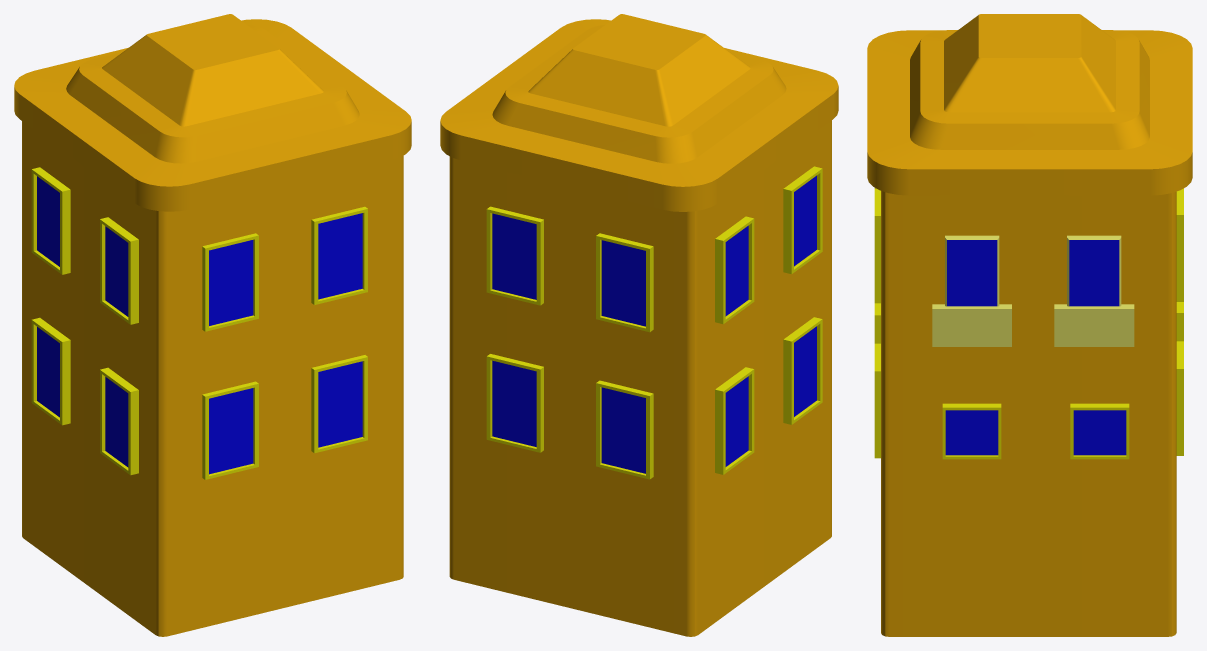
The picture shows the model from 3 angles, left to right: view 1: azimuth 30°, elevation 25°; view 2: azimuth 150°, elevation 25°; view 3: azimuth 270°, elevation 25°; orthographic projection. The views are drawn at different scales.
Visible parts, largest first — view 1: polySurface67, polySurface69, polySurface72, polySurface70, polySurface73, polySurface71, polySurface138, polySurface140, polySurface141, polySurface139; view 2: polySurface67, polySurface69, polySurface143, polySurface144, polySurface145, polySurface142, polySurface138, polySurface140, polySurface141, polySurface139; view 3: polySurface67, polySurface69, pCube56, pCube141, polySurface137, polySurface74, pCube142, pCube55, polySurface145, polySurface143, polySurface73, polySurface70.
Part boxes in pixels (left/top/right/bottom): polySurface67: left=22, top=121, right=403, bottom=636; polySurface69: left=14, top=14, right=411, bottom=211; polySurface72: left=202, top=381, right=258, bottom=479; polySurface70: left=311, top=206, right=367, bottom=304; polySurface73: left=311, top=355, right=367, bottom=453; polySurface71: left=202, top=233, right=258, bottom=331; polySurface138: left=31, top=167, right=70, bottom=274; polySurface140: left=31, top=317, right=70, bottom=425; polySurface141: left=100, top=367, right=138, bottom=475; polySurface139: left=100, top=217, right=138, bottom=324; polySurface67: left=449, top=120, right=831, bottom=636; polySurface69: left=440, top=14, right=838, bottom=211; polySurface143: left=486, top=206, right=543, bottom=305; polySurface144: left=596, top=380, right=653, bottom=479; polySurface145: left=486, top=354, right=543, bottom=452; polySurface142: left=596, top=233, right=653, bottom=332; polySurface138: left=715, top=216, right=754, bottom=324; polySurface140: left=715, top=367, right=754, bottom=474; polySurface141: left=783, top=317, right=822, bottom=424; polySurface139: left=783, top=166, right=822, bottom=274; polySurface67: left=881, top=191, right=1176, bottom=636; polySurface69: left=867, top=14, right=1192, bottom=195; pCube56: left=945, top=235, right=999, bottom=306; pCube141: left=1067, top=235, right=1121, bottom=306; polySurface137: left=1070, top=403, right=1129, bottom=459; polySurface74: left=942, top=403, right=1001, bottom=459; pCube142: left=1054, top=304, right=1134, bottom=346; pCube55: left=932, top=304, right=1011, bottom=346; polySurface145: left=1176, top=341, right=1183, bottom=455; polySurface143: left=1176, top=188, right=1183, bottom=301; polySurface73: left=874, top=343, right=880, bottom=458; polySurface70: left=874, top=188, right=880, bottom=303.
Bounding box in the file's own units: 18.42 × 33.25 × 18.22.
